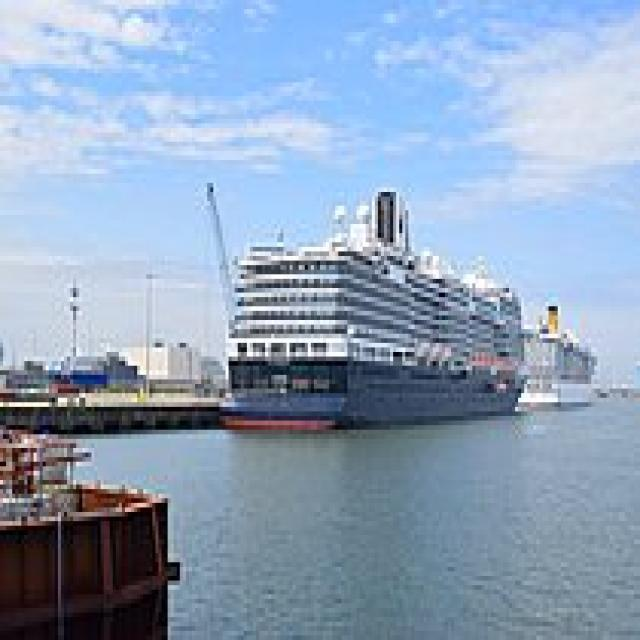Ship: (215, 180, 541, 445)
